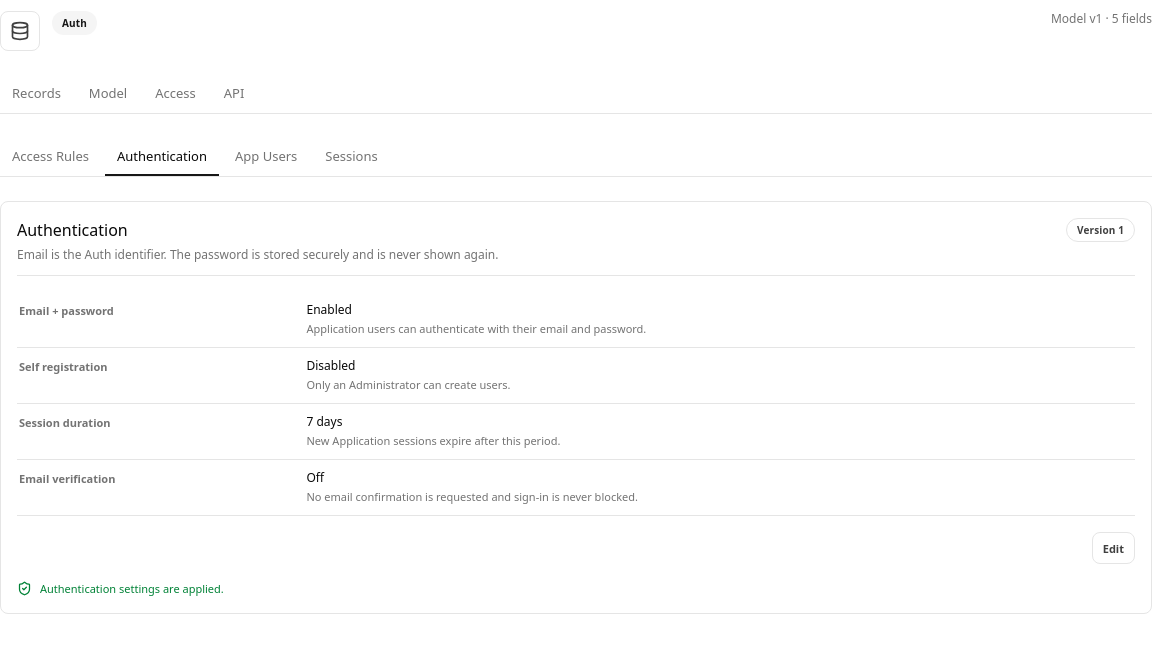
it: Collection Records and Security pages › keeps Authentication configuration changes separate and applies the confirmed version
Click the button "Edit".
click(1113, 548)  # box [1092, 532, 1135, 564]
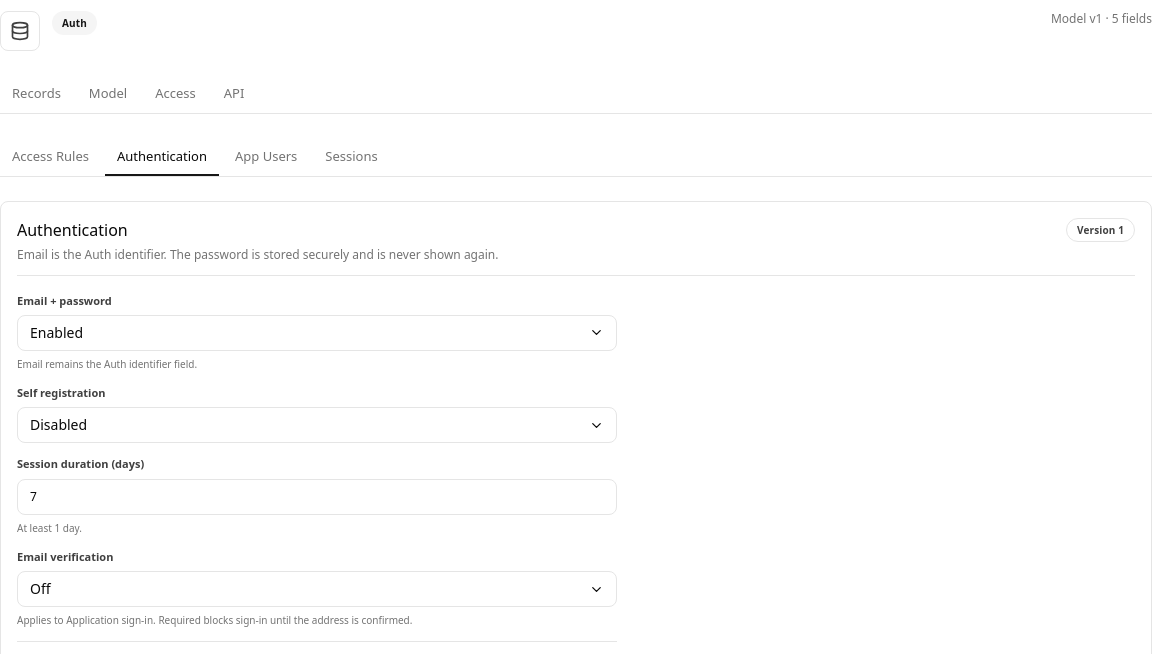
Click the dropdown named "Self registration".
click(59, 425)  # box [17, 408, 617, 444]
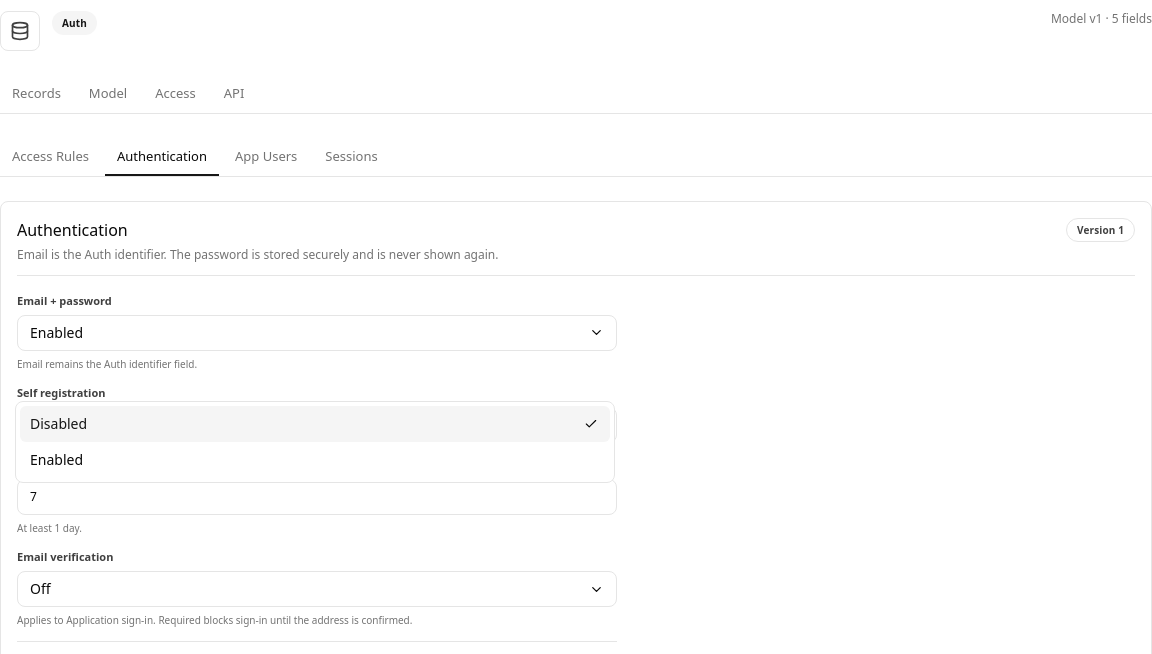
Click the option "Enabled".
click(56, 460)  # box [30, 450, 83, 470]
(page scrolled)
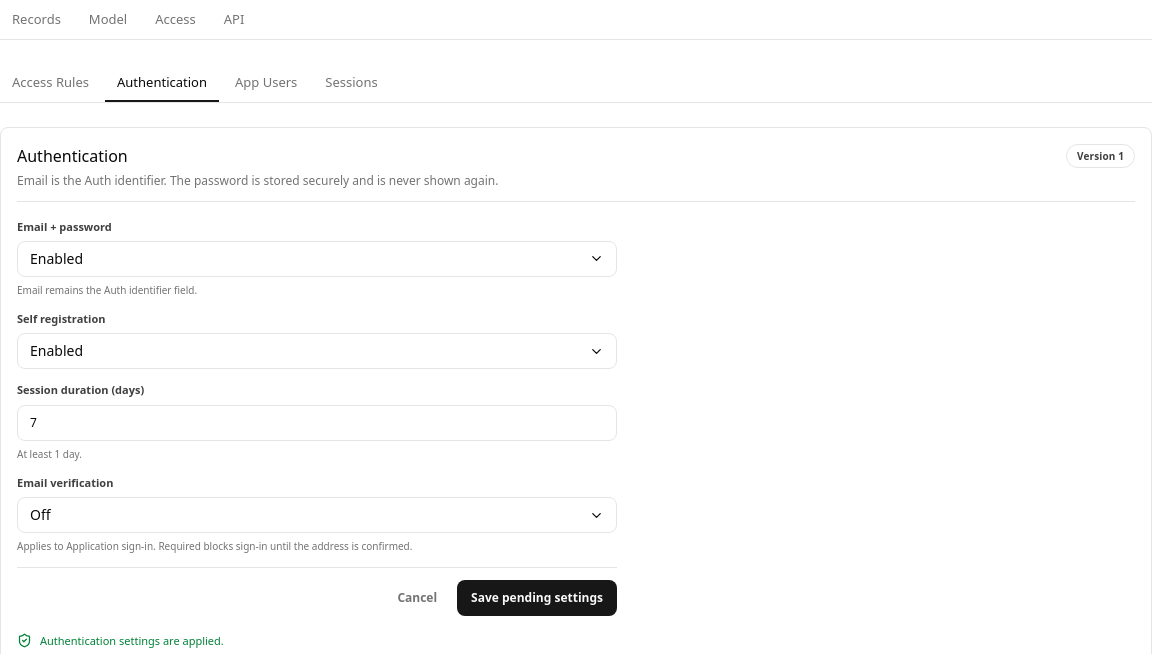
Click the button "Save pending settings".
click(537, 598)  # box [457, 580, 617, 616]
(page scrolled)
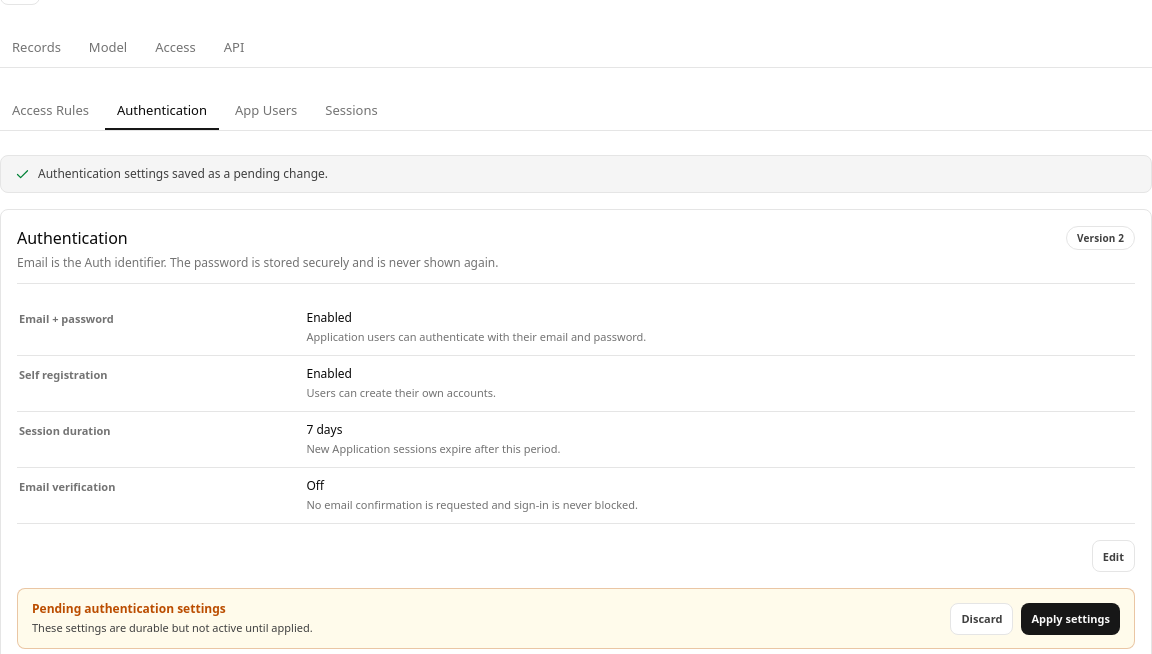
Expected: the element "Pending authentication settings" is shown, [32, 600, 226, 617]
Click the button "Apply settings".
click(1071, 619)  # box [1022, 603, 1120, 635]
(page scrolled)
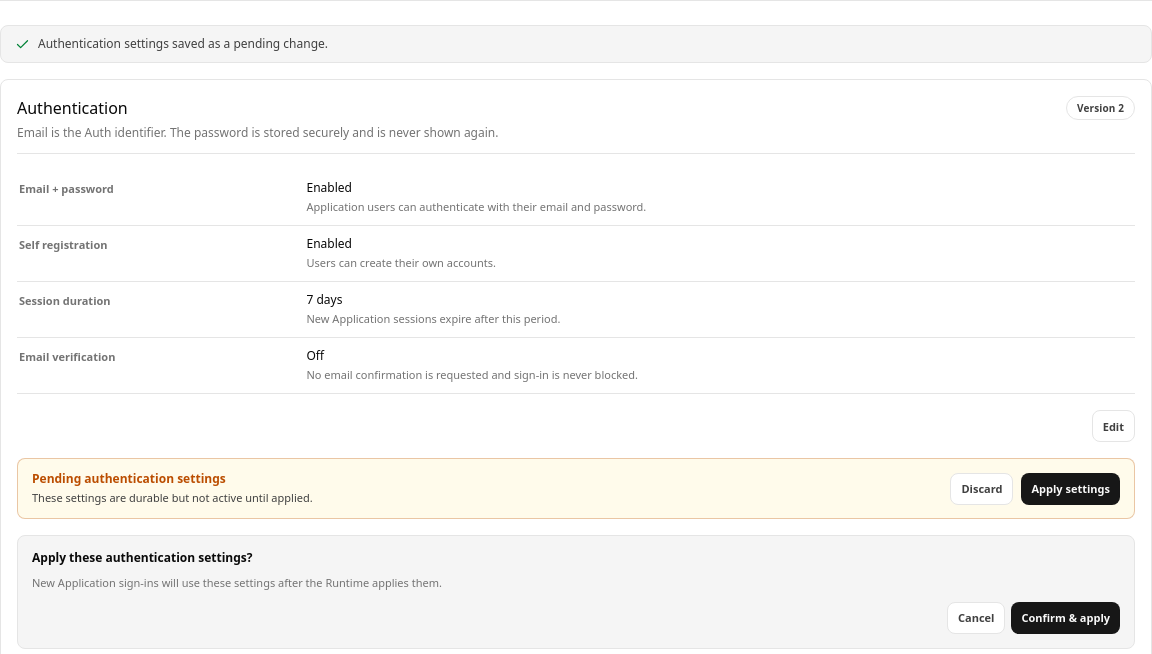
Click the button "Confirm & apply".
click(1066, 618)  # box [1011, 602, 1120, 634]
(page scrolled)
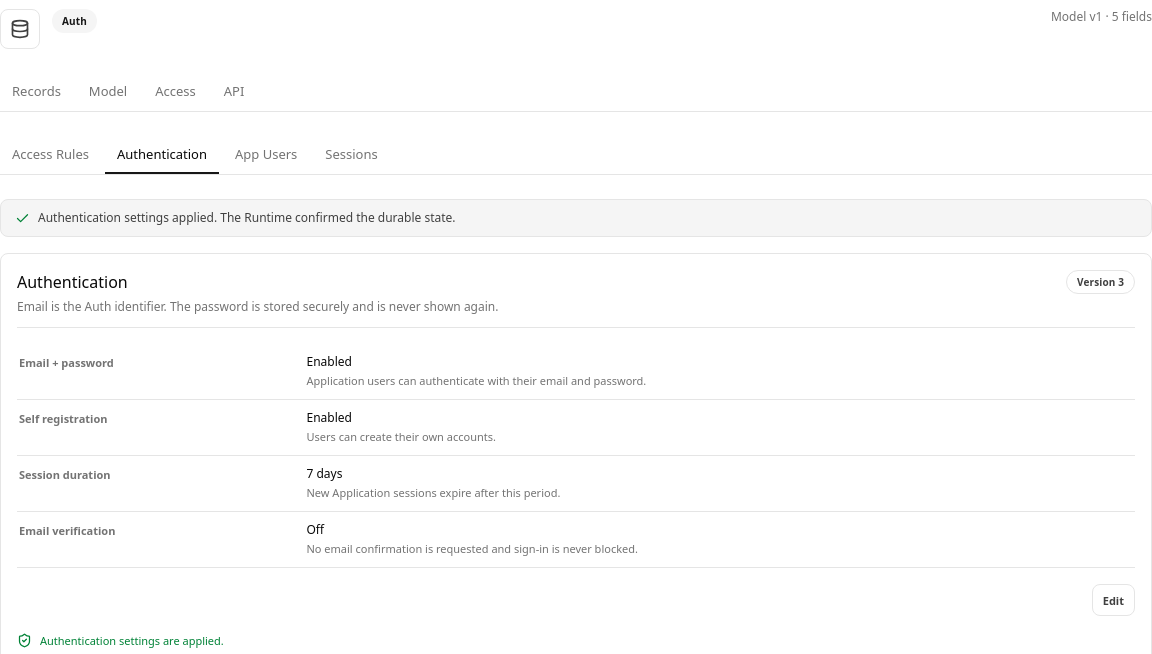
Expected: the text "Authentication settings applied. The Runtime confirmed the durable state." is shown, [0, 199, 1151, 237]
